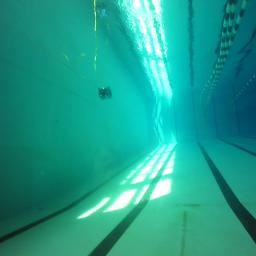back: (98, 86, 112, 100)
